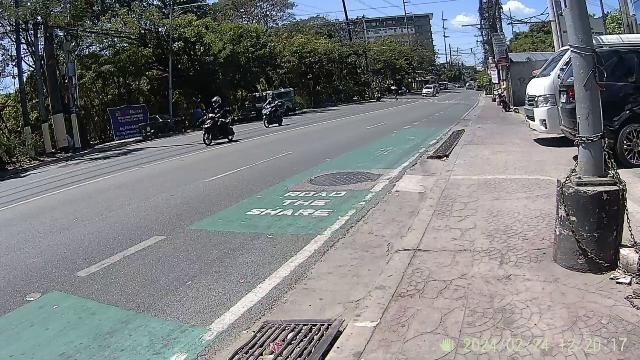utility_post: (564, 6, 616, 272)
